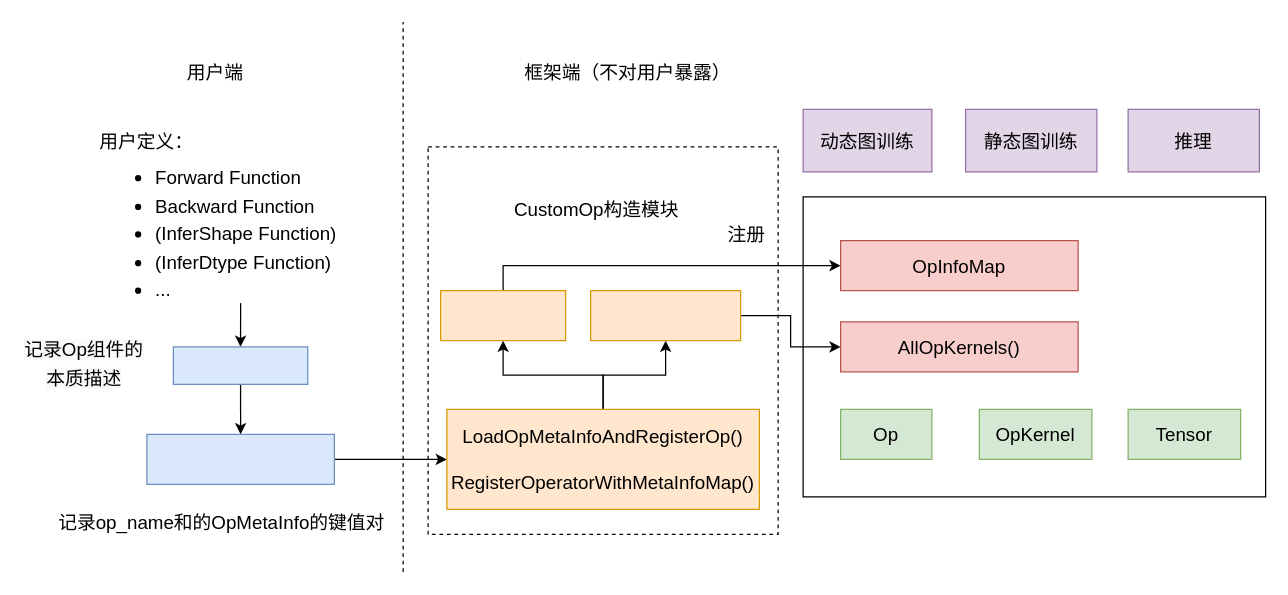
The diagram is 1288 pixels wide and 595 high, and some of its shapes have lost their labels. Each missing label, with the centre of its shape:
"CustomOp" belongs at point 502,315.
"CustomOpKernel" belongs at point 665,315.
"OpMetaInfo" belongs at point 240,365.
"OpMetaInfoMap" belongs at point 240,458.
